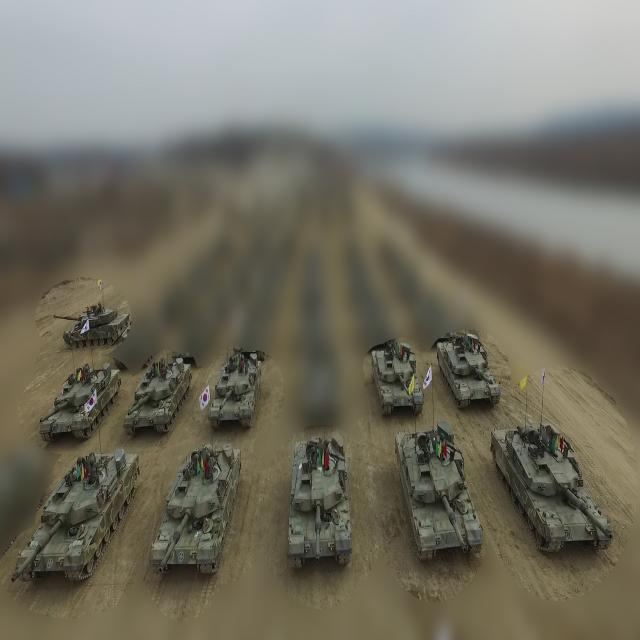tank: (10, 448, 141, 583), (491, 425, 613, 553), (394, 421, 484, 561), (150, 443, 242, 575), (286, 427, 353, 568), (39, 362, 123, 442), (123, 351, 196, 435), (57, 280, 132, 351), (434, 331, 502, 408), (364, 338, 431, 416), (208, 346, 267, 430)
